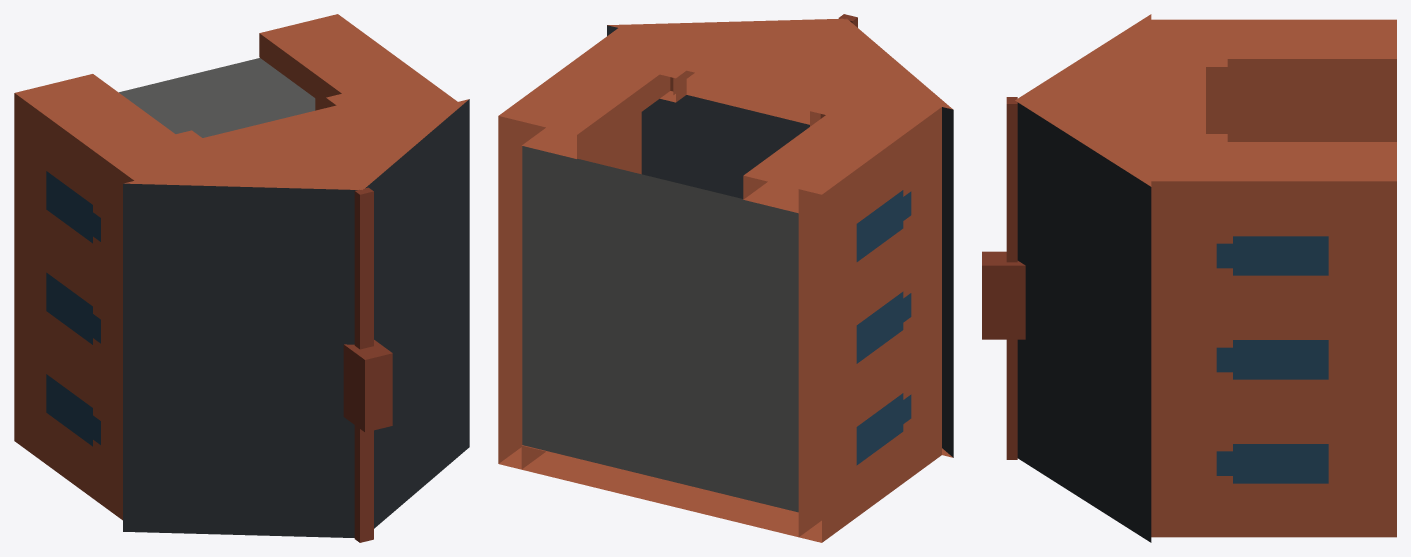
3 renders of one model, left to right at view 1: azimuth 30°, elevation 25°; view 2: azimuth 150°, elevation 25°; view 3: azimuth 270°, elevation 25°, orthographic. The views are drawn at different scales.
Parts seen in each view (by area): view 1: depot_rail_default; view 2: depot_rail_default; view 3: depot_rail_default.
Part boxes in pixels (x1,y1,x2,y2): depot_rail_default: [14, 14, 469, 542]; depot_rail_default: [498, 14, 953, 542]; depot_rail_default: [982, 14, 1396, 542].
Size of the model in its own units: 15 by 14.4 by 15.2.
